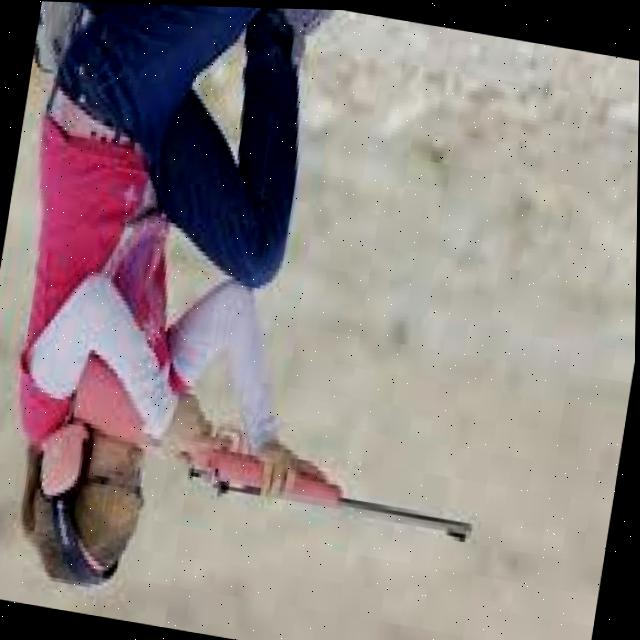firearm: (62, 343, 495, 547)
